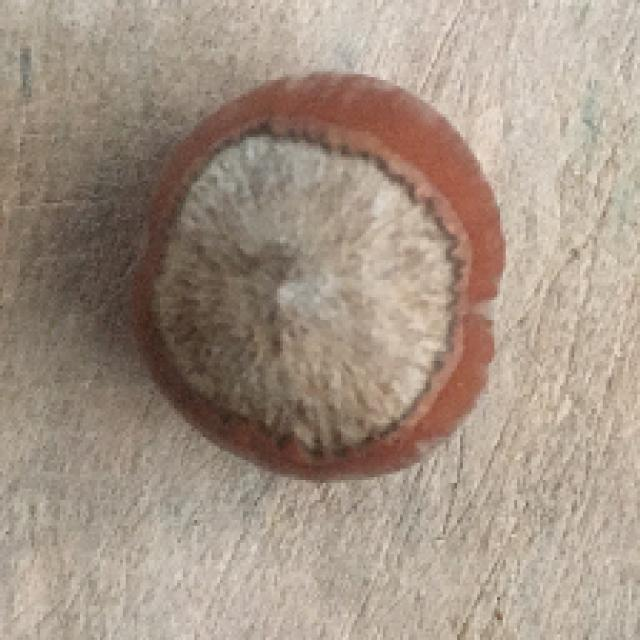QualityHazelnut: (120, 73, 508, 481)
